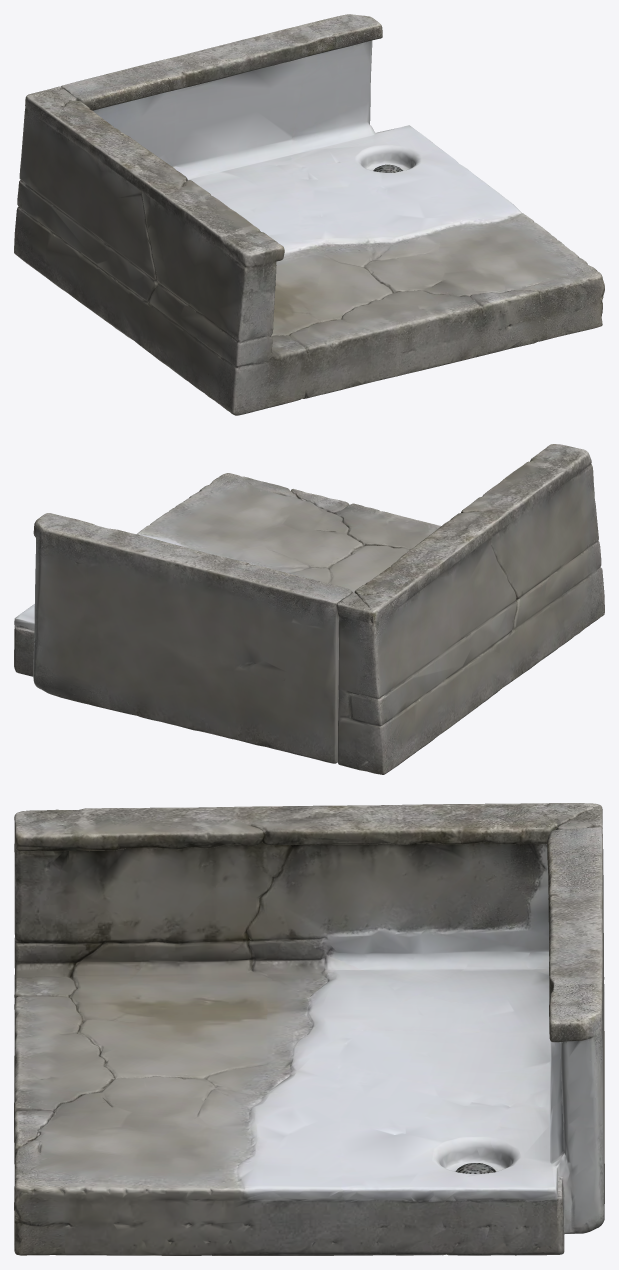
Rendered from old-roof.glb.
The picture shows the model from 3 angles, top to bottom: view 1: azimuth 30°, elevation 25°; view 2: azimuth 150°, elevation 25°; view 3: azimuth 270°, elevation 25°; orthographic projection. The views are drawn at different scales.
Visible parts, largest first — view 1: tripo_node_56ec07eb-55ad-43cb-b814-615f7e0d4183; view 2: tripo_node_56ec07eb-55ad-43cb-b814-615f7e0d4183; view 3: tripo_node_56ec07eb-55ad-43cb-b814-615f7e0d4183.
Part boxes in pixels (x1=…): tripo_node_56ec07eb-55ad-43cb-b814-615f7e0d4183: x1=14, y1=14, x2=604, y2=415; tripo_node_56ec07eb-55ad-43cb-b814-615f7e0d4183: x1=14, y1=444, x2=604, y2=774; tripo_node_56ec07eb-55ad-43cb-b814-615f7e0d4183: x1=14, y1=803, x2=604, y2=1255.
Bounding box in the file's own units: 0.9983 × 0.4135 × 0.9997.
Materials: 1 (1 with a texture image).
